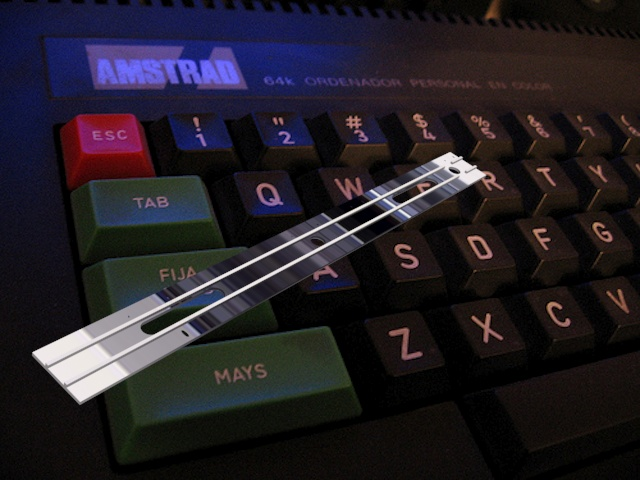ruler: (33, 149, 496, 408)
